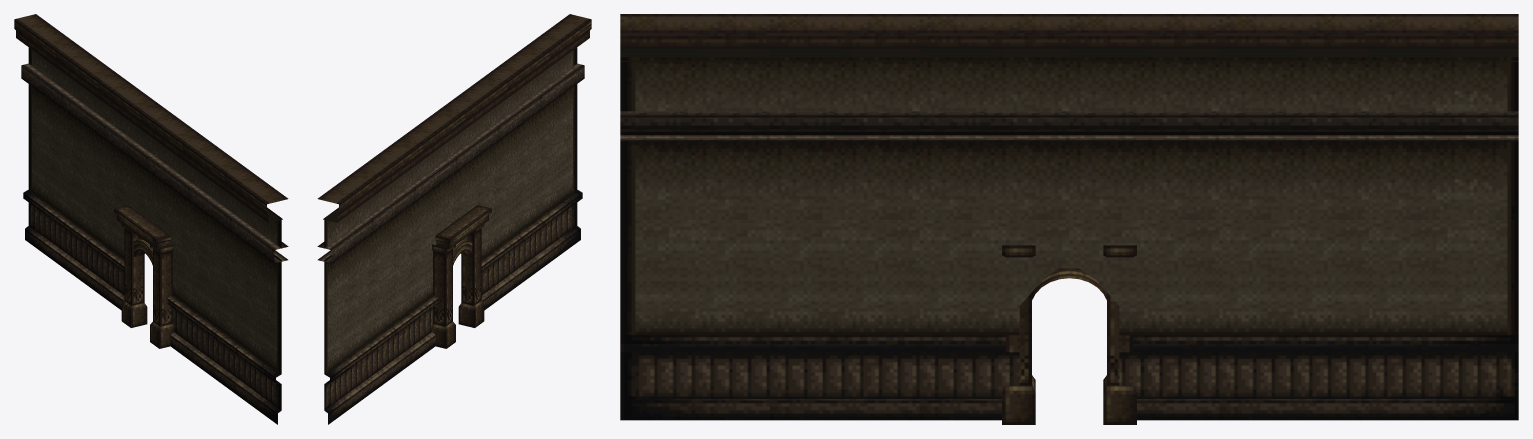
Rendered from EnvBdgMD_Snow_Mansion_A_Indoor_RoomWall_C.FBX.
3 views of the same model, side by side, from view 1: azimuth 30°, elevation 25°; view 2: azimuth 150°, elevation 25°; view 3: azimuth 270°, elevation 25° (orthographic). The views are drawn at different scales.
Visible parts, largest first — view 1: EnvBdgMD_Snow_Mansion_A_Indoor_RoomWall_C; view 2: EnvBdgMD_Snow_Mansion_A_Indoor_RoomWall_C; view 3: EnvBdgMD_Snow_Mansion_A_Indoor_RoomWall_C.
Part boxes in pixels (left/top/right/bottom): EnvBdgMD_Snow_Mansion_A_Indoor_RoomWall_C: left=14, top=14, right=288, bottom=424; EnvBdgMD_Snow_Mansion_A_Indoor_RoomWall_C: left=317, top=14, right=591, bottom=424; EnvBdgMD_Snow_Mansion_A_Indoor_RoomWall_C: left=620, top=14, right=1518, bottom=424.
Bounding box in the file's own units: 75 × 585 × 1200.
